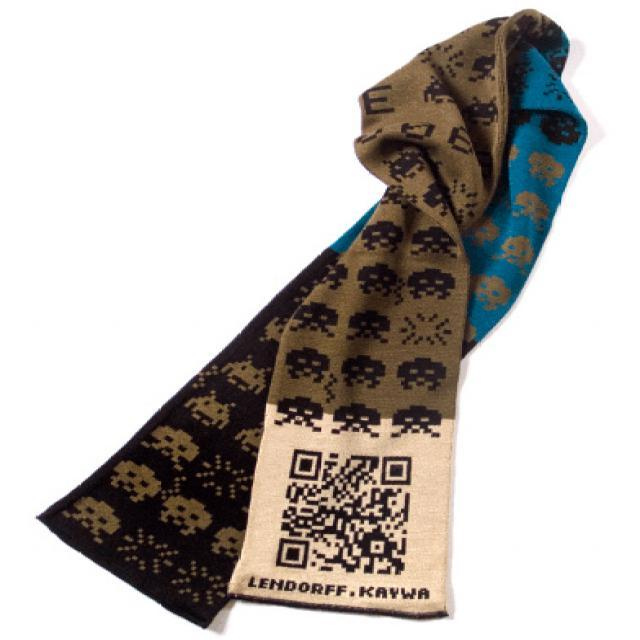qrcode: (277, 449, 411, 575)
